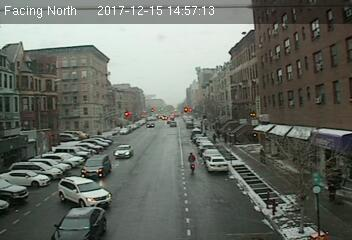bicycle: (187, 151, 197, 174)
car: (50, 205, 111, 240), (59, 176, 111, 209), (81, 156, 110, 177), (205, 156, 228, 170), (114, 145, 133, 157)
